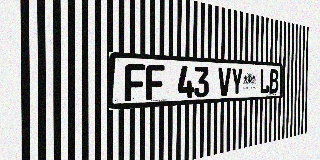3: (194, 66, 209, 98)
4: (178, 66, 194, 98)
B: (269, 69, 278, 94)
F: (124, 64, 145, 101), (146, 64, 164, 100)
L: (259, 69, 269, 94)
V: (218, 67, 231, 96)
Y: (231, 68, 243, 96)
